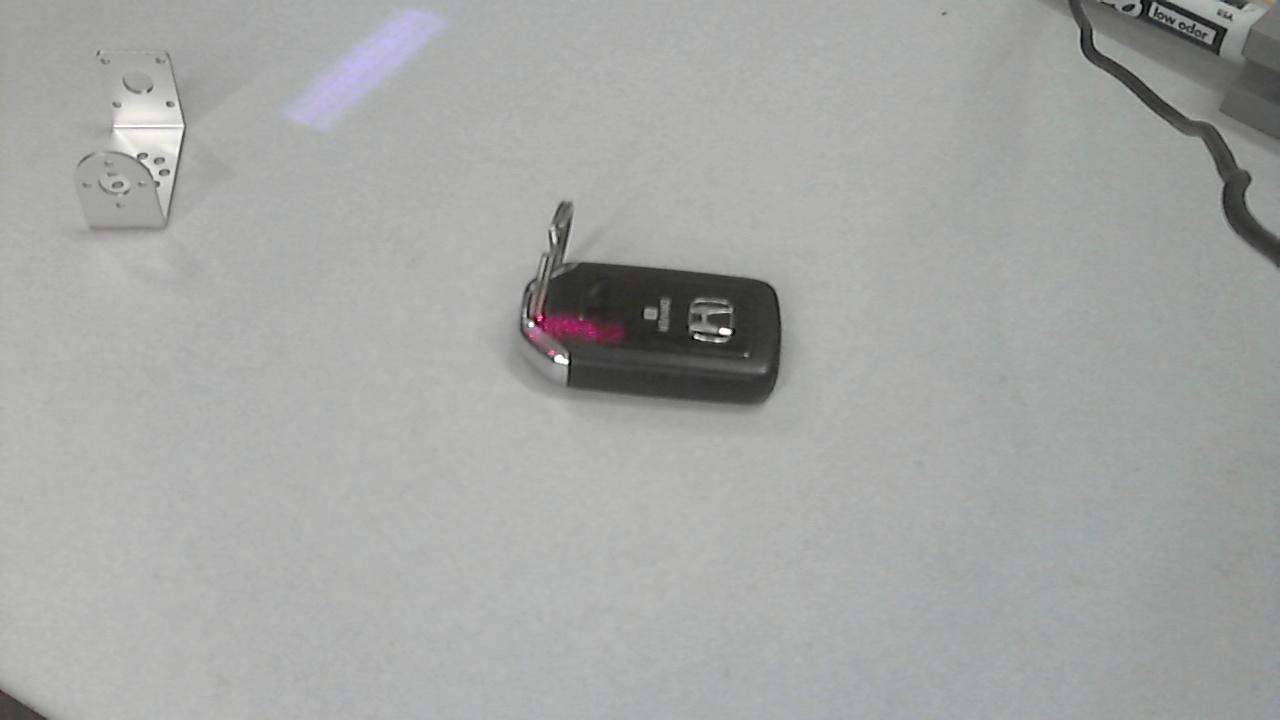Object car key fob with keyring - Material plastic - Pdfname u4lxlaYXiY3D: (477, 300, 627, 363)
